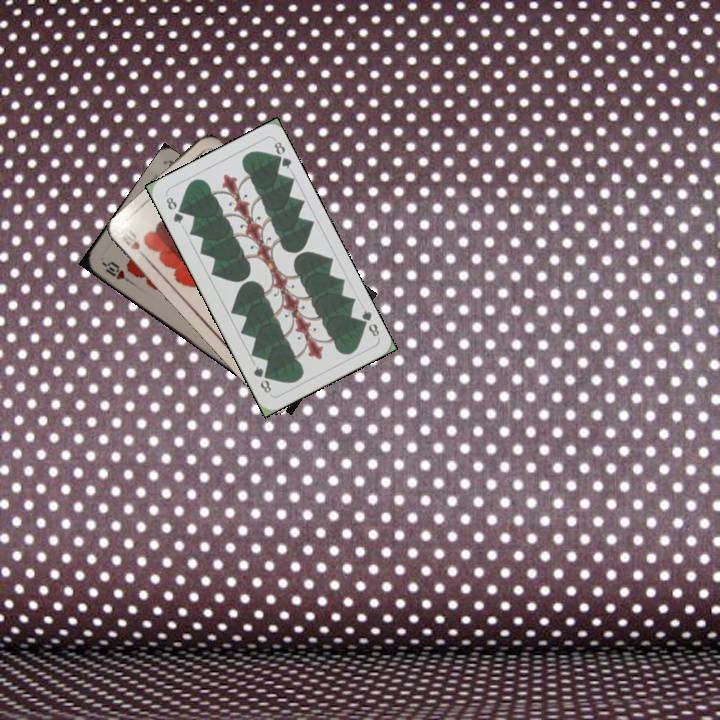G8: (354, 305, 382, 339), (162, 192, 186, 227)
H10: (118, 227, 149, 261), (98, 257, 134, 286)
